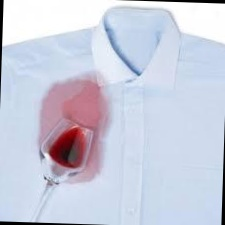wine: (40, 81, 107, 127), (92, 128, 109, 167), (69, 169, 104, 183)
